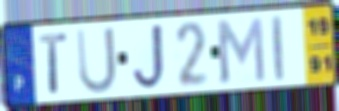2: (173, 19, 211, 89)
I: (269, 13, 287, 84)
J: (131, 22, 168, 93)
M: (213, 15, 268, 85)
T: (37, 30, 69, 95)
U: (74, 25, 119, 97)
